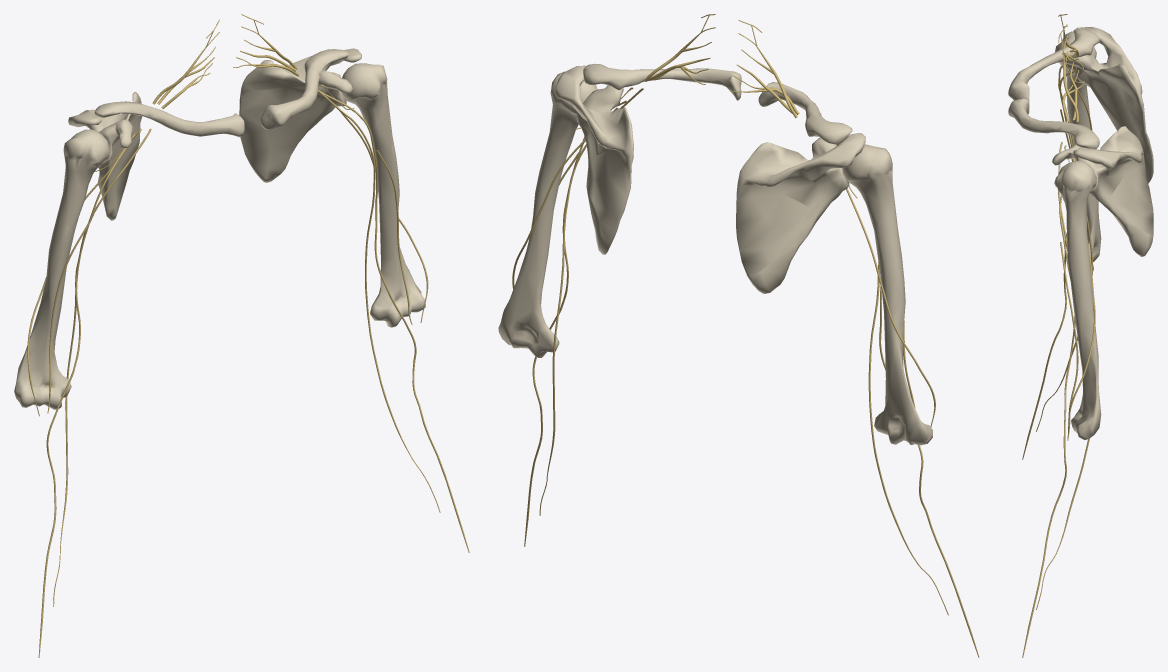
Rendered from upper-limb-mobile.glb.
The picture shows the model from 3 angles, left to right: view 1: azimuth 30°, elevation 25°; view 2: azimuth 150°, elevation 25°; view 3: azimuth 270°, elevation 25°; orthographic projection. The views are drawn at different scales.
Visible parts, largest first — view 1: za.humerus-r, za.humerus-l, za.scapula-l, za.scapula-r, za.clavicle-r, za.clavicle-l, za.median-nerve-r, za.median-nerve-l, za.ulnar-nerve-l, za.ulnar-nerve-r; view 2: za.scapula-r, za.humerus-r, za.humerus-l, za.scapula-l, za.clavicle-l, za.clavicle-r, za.ulnar-nerve-l, za.median-nerve-l, za.ulnar-nerve-r, za.median-nerve-r; view 3: za.humerus-l, za.scapula-l, za.scapula-r, za.humerus-r, za.clavicle-r, za.clavicle-l, za.median-nerve-l, za.median-nerve-r, za.ulnar-nerve-l, za.musculocutaneous-nerve-l, za.radial-nerve-l, za.ulnar-nerve-r (+1 smaller).
Part boxes in pixels (x1,y1,x2,y2): za.humerus-r: (14,129,109,409); za.humerus-l: (342,63,425,327); za.scapula-l: (239,48,361,182); za.scapula-r: (68,92,142,220); za.clavicle-r: (94,101,244,137); za.clavicle-l: (260,49,349,129); za.median-nerve-r: (38,133,135,657); za.median-nerve-l: (319,90,469,552); za.ulnar-nerve-l: (318,90,440,512); za.ulnar-nerve-r: (53,128,151,606); za.scapula-r: (736,133,865,293); za.humerus-r: (843,144,932,445); za.humerus-l: (498,71,597,357); za.scapula-l: (555,65,633,254); za.clavicle-l: (583,63,741,100); za.clavicle-r: (758,82,852,144); za.ulnar-nerve-l: (539,88,643,515); za.median-nerve-l: (524,100,626,546); za.ulnar-nerve-r: (868,262,948,615); za.median-nerve-r: (879,286,979,657); za.humerus-l: (1054,161,1101,439); za.scapula-l: (1052,126,1153,256); za.scapula-r: (1058,27,1153,183); za.humerus-r: (1055,31,1101,270); za.clavicle-r: (1008,28,1099,101); za.clavicle-l: (1008,98,1099,149); za.median-nerve-l: (1022,159,1075,657); za.median-nerve-r: (1022,69,1076,459); za.ulnar-nerve-l: (1036,142,1089,609); za.musculocutaneous-nerve-l: (1060,242,1078,435); za.radial-nerve-l: (1067,244,1095,440); za.ulnar-nerve-r: (1036,65,1092,431).
Size of the model in its own units: 0.528 by 0.6689 by 0.1634.
